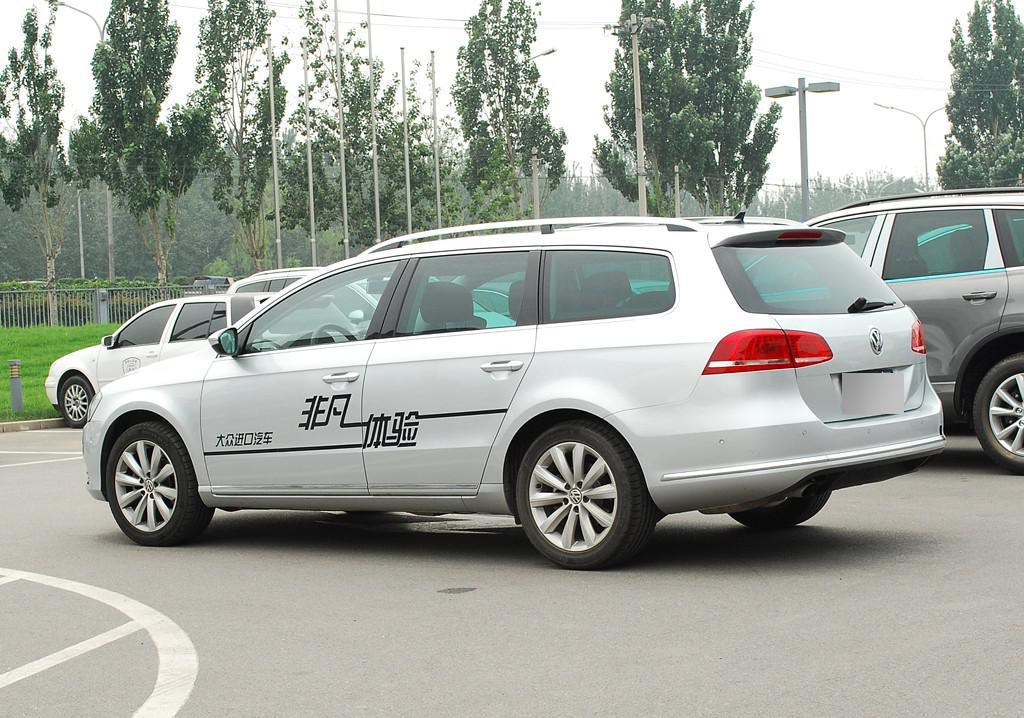Wagon: (80, 215, 947, 569)
